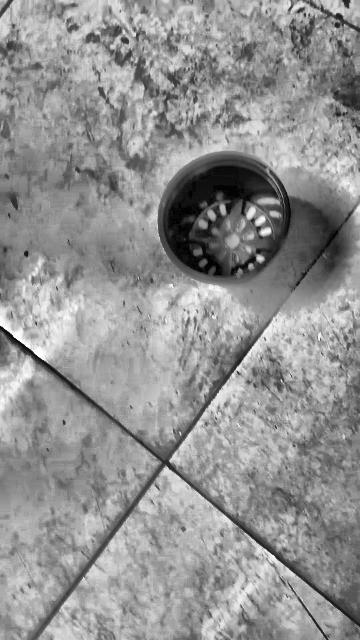pot: (157, 153, 291, 285)
